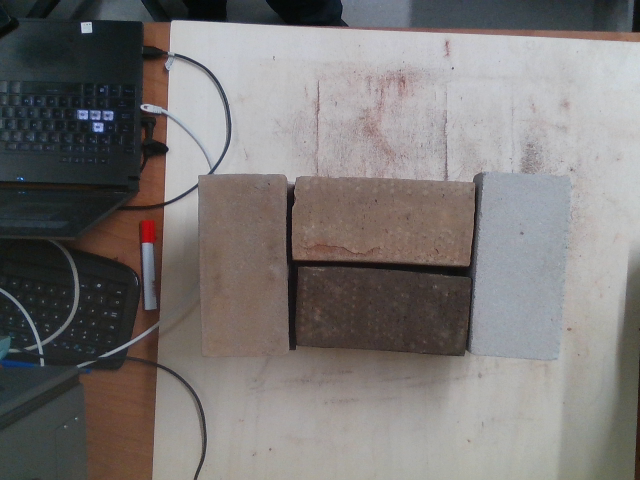brick: (473, 172, 568, 360), (199, 174, 287, 354), (296, 176, 471, 265), (297, 268, 471, 353)
